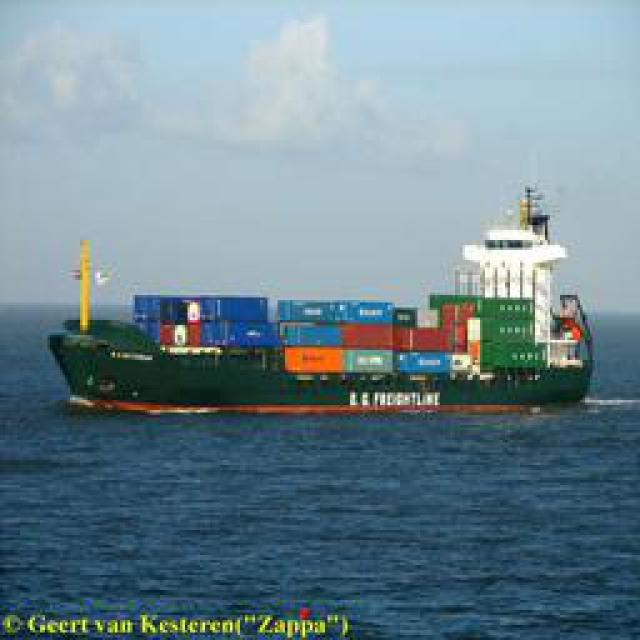Ship: (60, 174, 585, 419)
